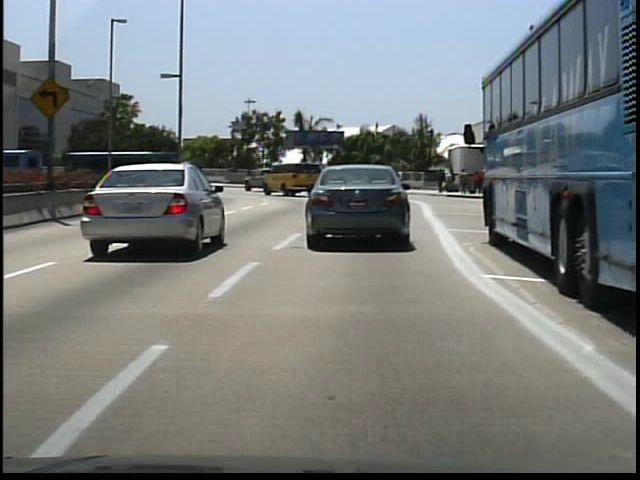person: (455, 165, 470, 197), (434, 167, 447, 195), (246, 164, 255, 178)
